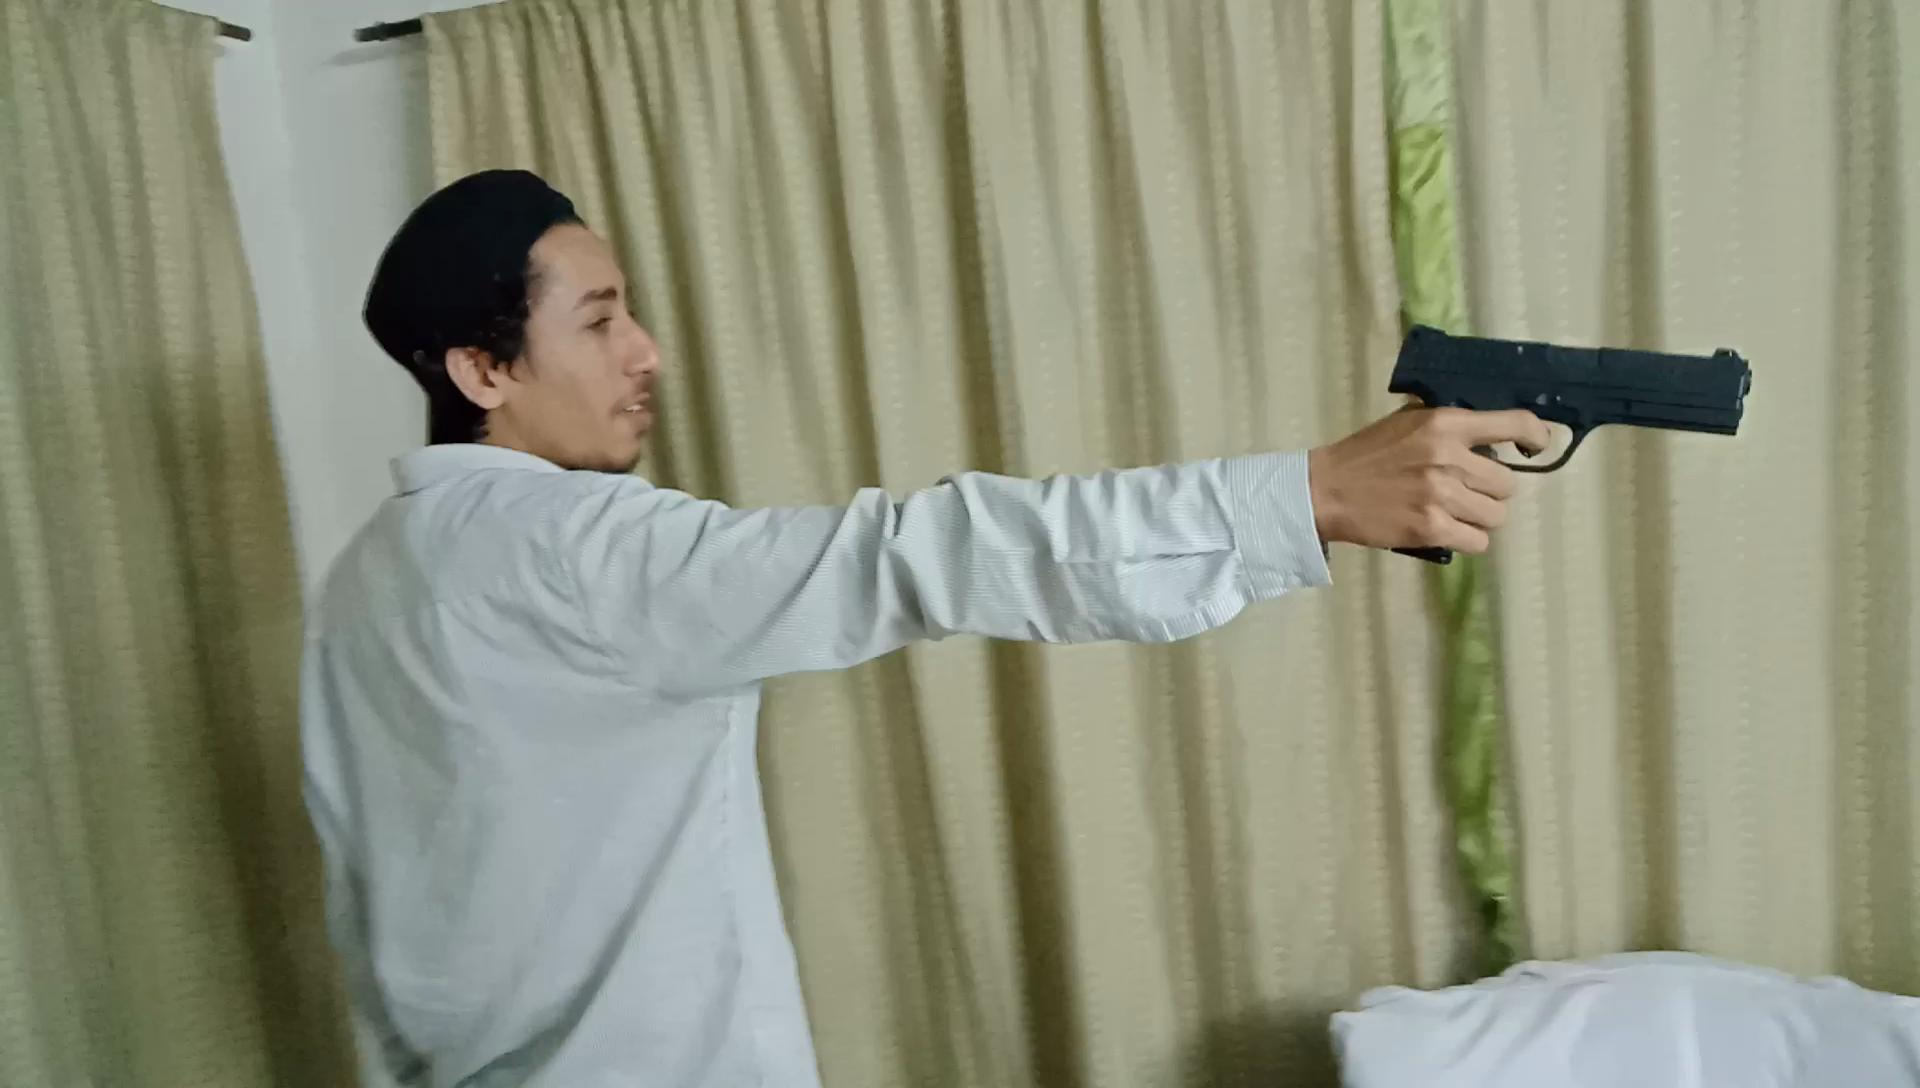criminal: (295, 166, 1768, 1088)
weapon: (1364, 317, 1766, 575)
